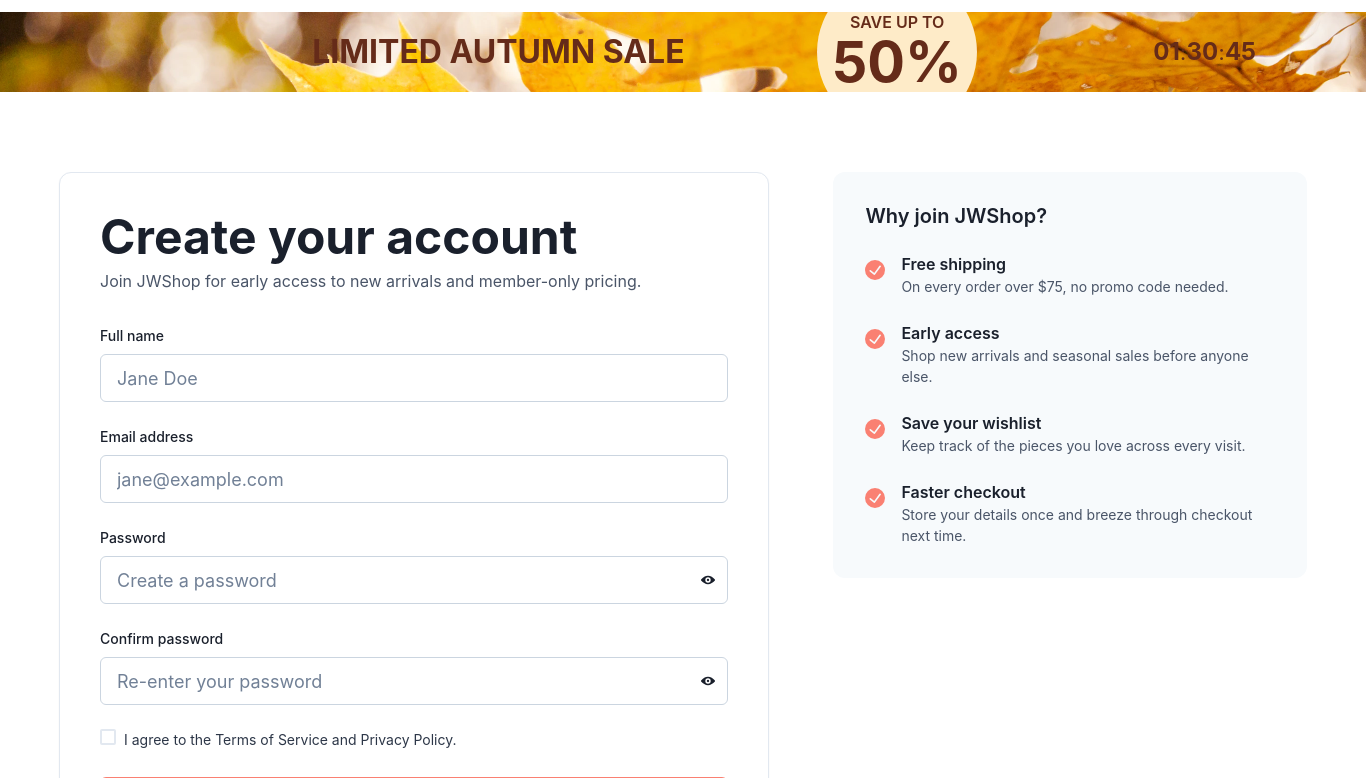
Scenario: RegisterPage component › toggles password visibility when clicking the show/hide icon
The image size is (1366, 778).
Click the 1st button named "show password" at (708, 580), box x1=692 y1=564 x2=724 y2=596
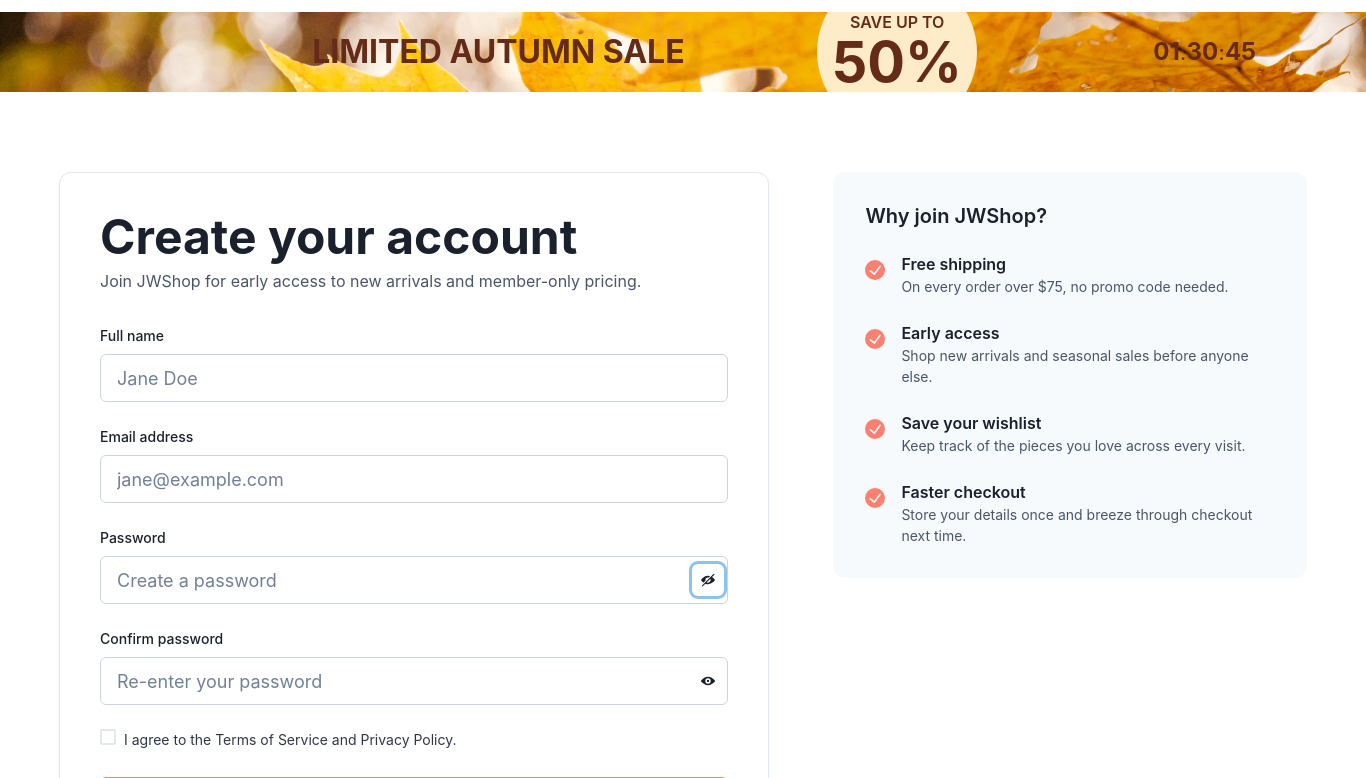
Expected: the button named "hide password" is shown, x1=692 y1=564 x2=724 y2=596
